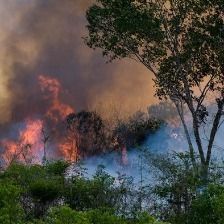incendio: (72, 114, 195, 217), (1, 75, 87, 163)
